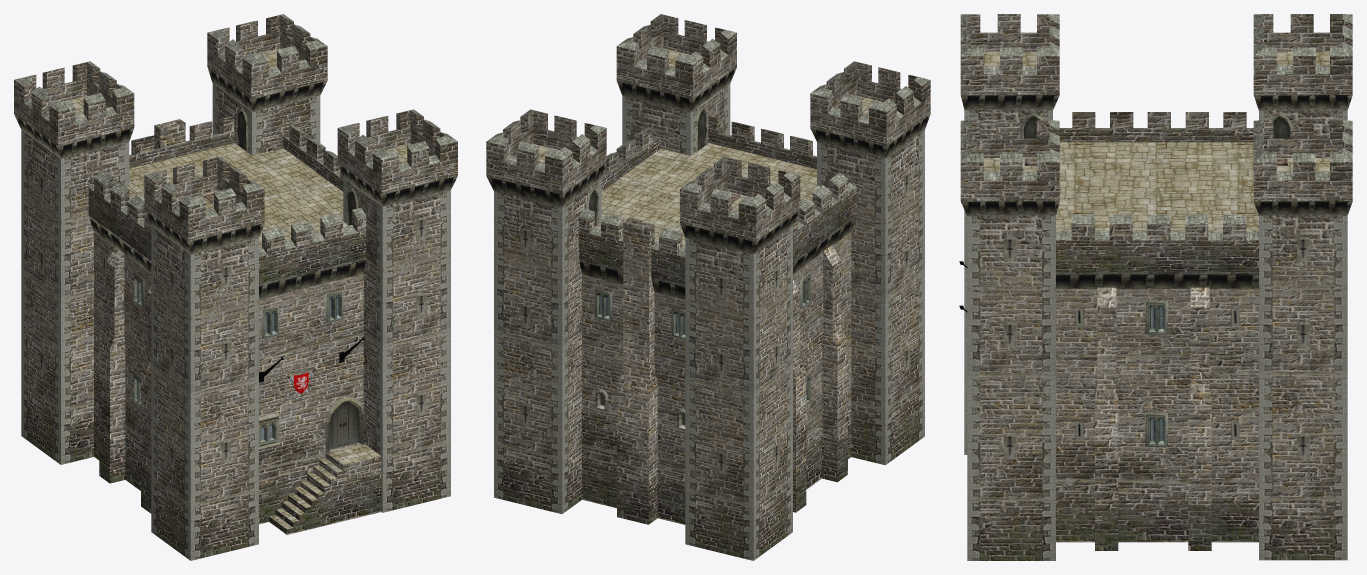
The model's file is building_keep_medium.glb.
The picture shows the model from 3 angles, left to right: view 1: azimuth 30°, elevation 25°; view 2: azimuth 150°, elevation 25°; view 3: azimuth 270°, elevation 25°; orthographic projection. The views are drawn at different scales.
Parts seen in each view (by area): view 1: building_keep_medium; view 2: building_keep_medium; view 3: building_keep_medium.
Boxes of the visible parts, x1,y1,x2,y2 form: building_keep_medium: (14, 14, 457, 560); building_keep_medium: (486, 14, 930, 560); building_keep_medium: (959, 14, 1352, 560).
Bounding box in the file's own units: 17.17 × 21.92 × 19.28.
Materials: 6 (6 with a texture image).
